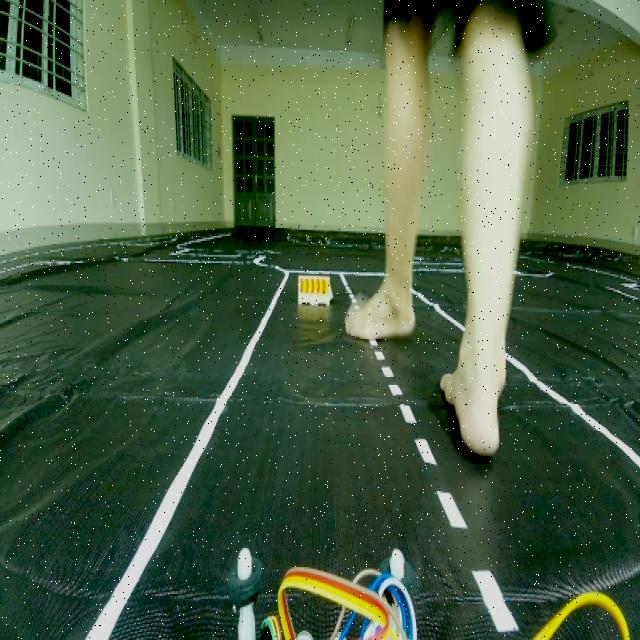roadblock: (292, 273, 336, 318)
